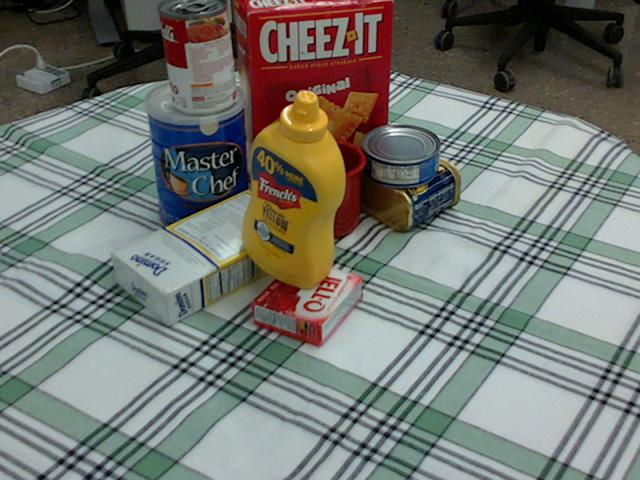cracker_box: (235, 0, 393, 191)
gelatin_box: (252, 257, 362, 345)
master_chef_can: (143, 77, 249, 235)
mug: (279, 136, 366, 238)
mustard_bottle: (241, 89, 345, 288)
potted_meat_can: (344, 137, 458, 228)
sugar_box: (109, 188, 303, 325)
tomato_soup_can: (159, 0, 235, 113)
tuna_fish_can: (360, 125, 439, 187)
